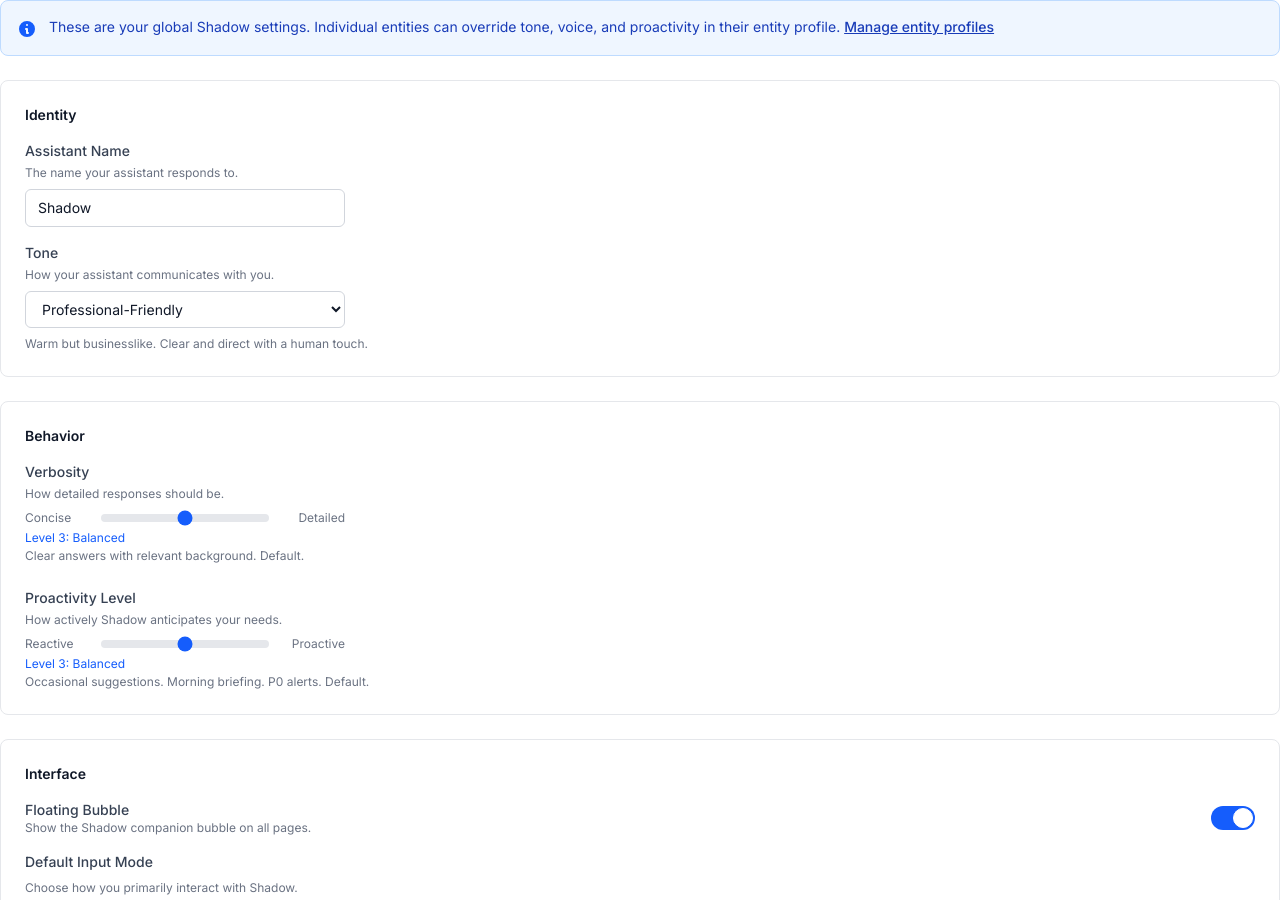
Scenario: General Tab Enhancements › shows proactivity level description that changes with slider
Expected: the text "Level 3: Balanced" is shown 2 times, [25,530,125,545]; [25,656,125,671]
Expected: the text "Occasional suggestions" is shown, [25,674,369,689]
# Change proactivity slider to level 5
Set the slider next to "Reactive" to "5". click: coordinates (261, 644)
box: [101,640,269,648]
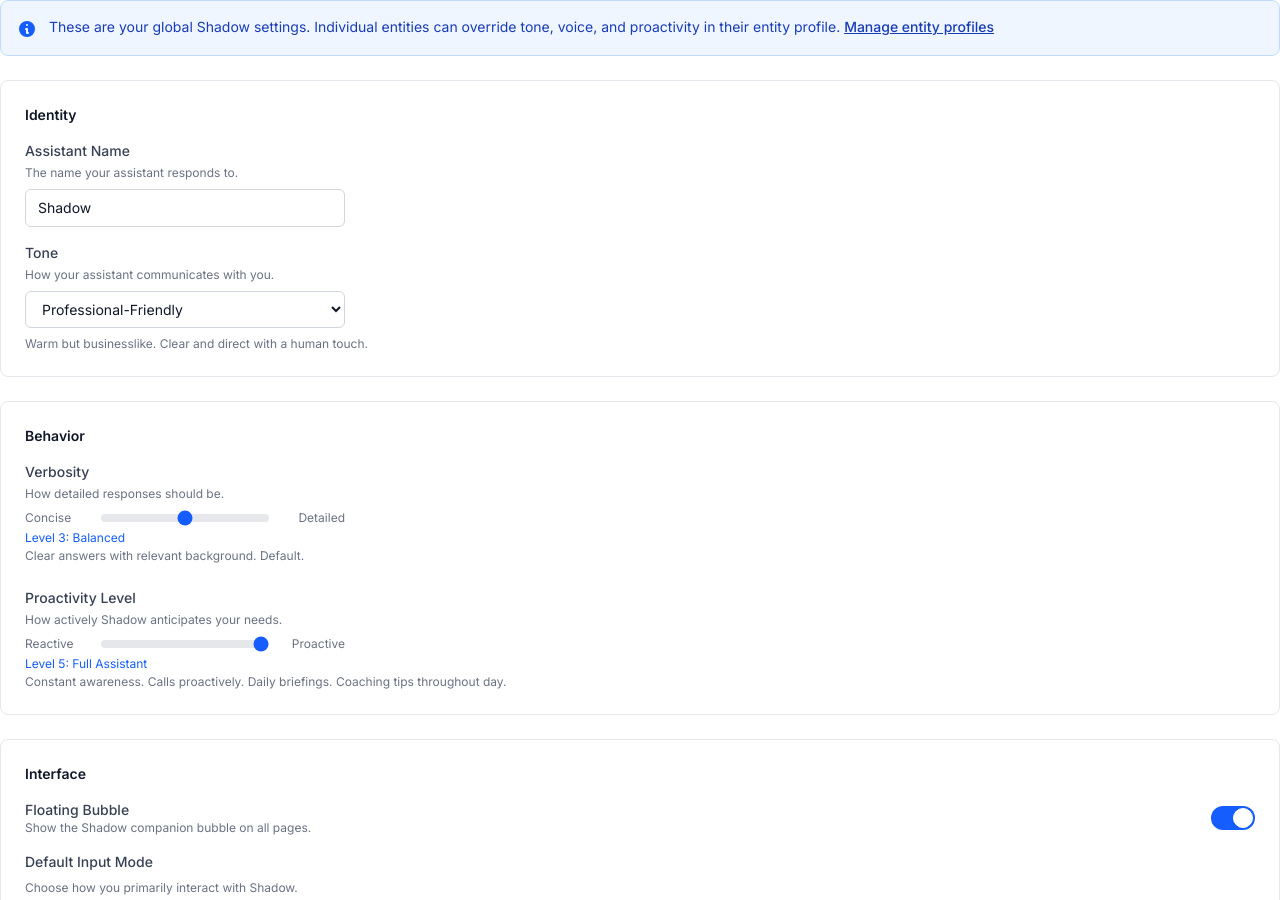
Now the text "Level 5: Full Assistant" is shown, box [25,656,147,671]
Now the text "Constant awareness" is shown, box [25,674,506,689]
